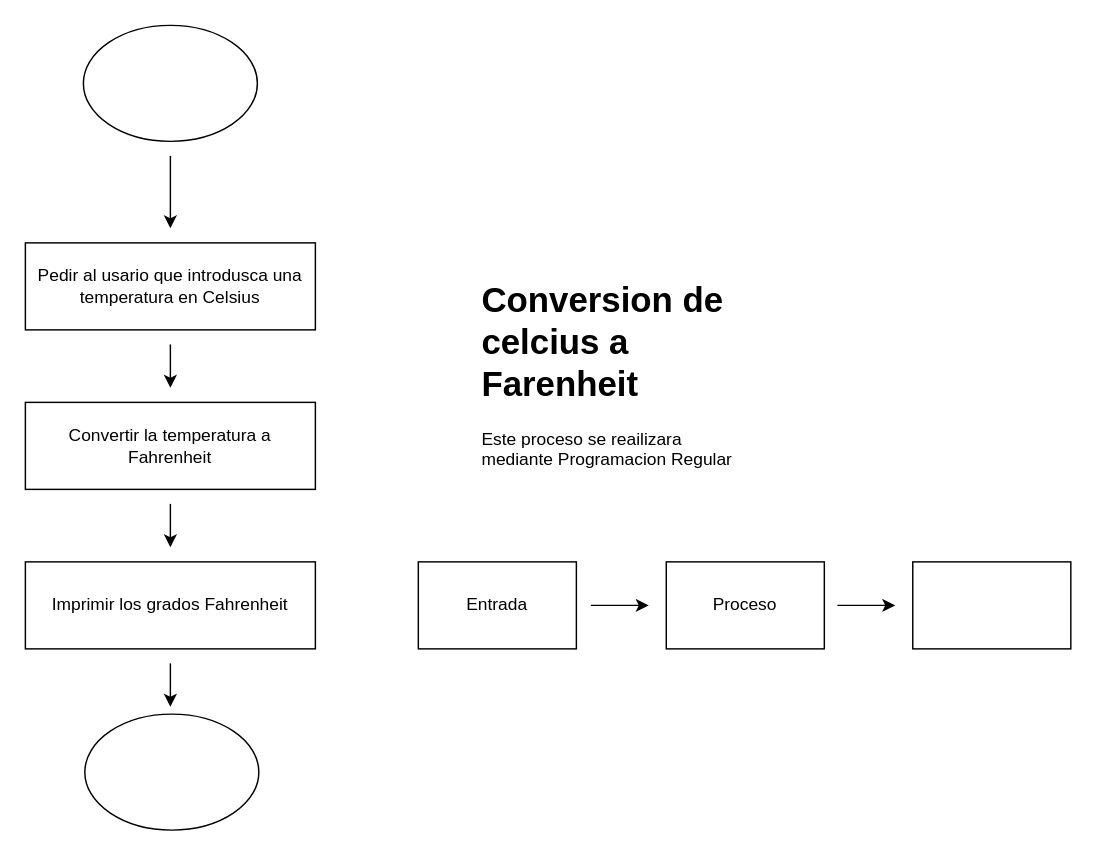
This 1096x856 diagram has some shape labels left out. The centre of each missing label's shape, as x and y in pixels:
"Fin" goes at (171,771).
"Inicio" goes at (169,82).
"Salida" goes at (991,604).
